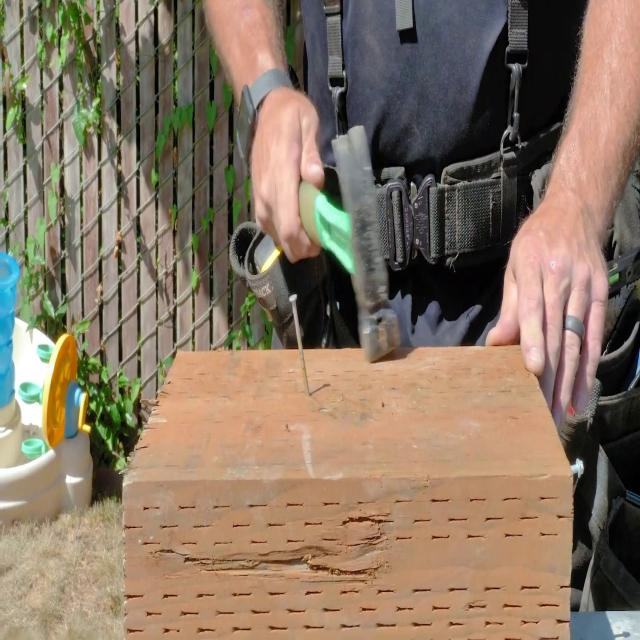hammer: (296, 122, 402, 363)
